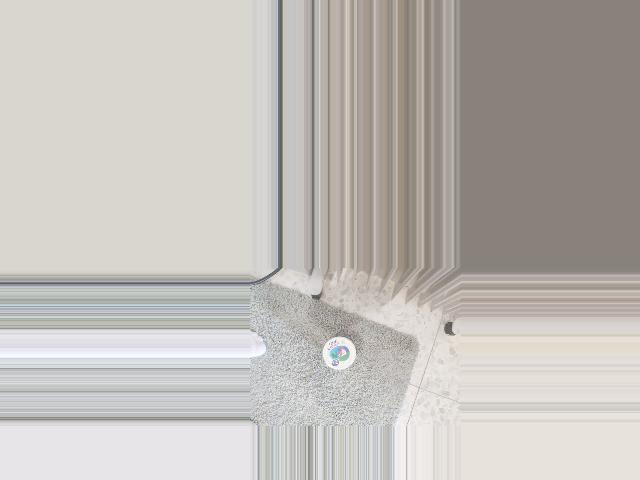cotage: (323, 336, 356, 370)
